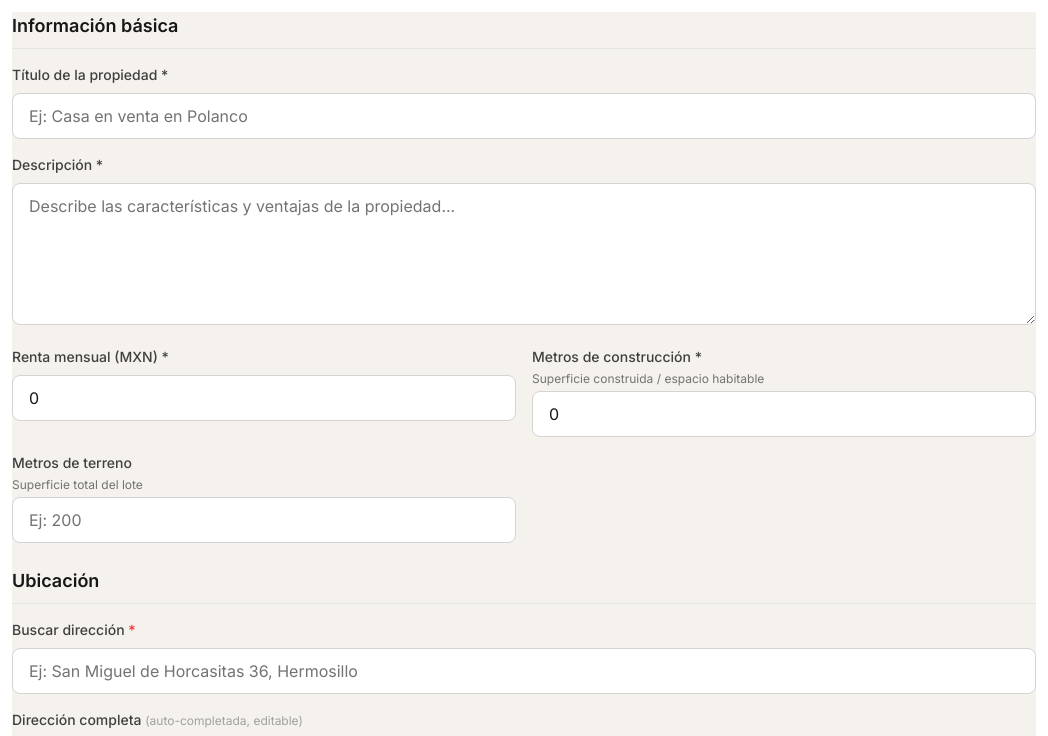
Test: PropertyUploadForm › shows a maps configuration error when autocomplete fails upstream
Expected: the field labelled "Título de la propiedad *" is shown, [12,93,1036,139]
Type "Begonia 10" into the dropdown with placeholder "Ej: San Miguel de Horcasitas 36, Hermosillo" at (524, 671), box [12,648,1036,694]
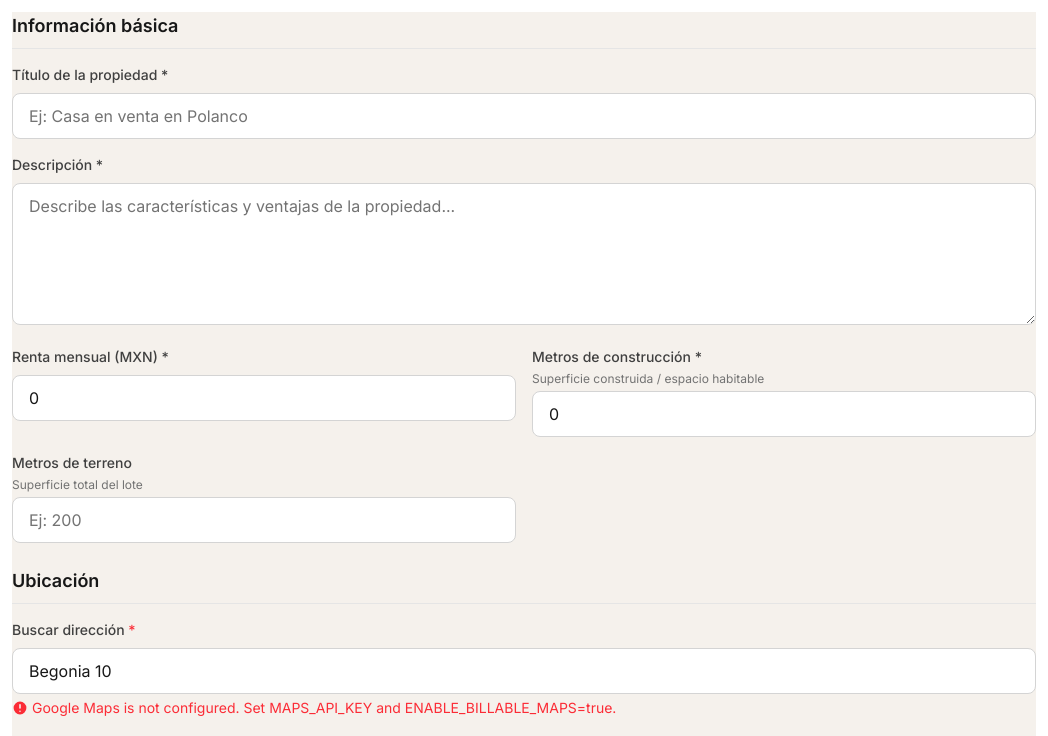
Expected: the text "Google Maps is not configured" is shown, [32,699,616,716]
